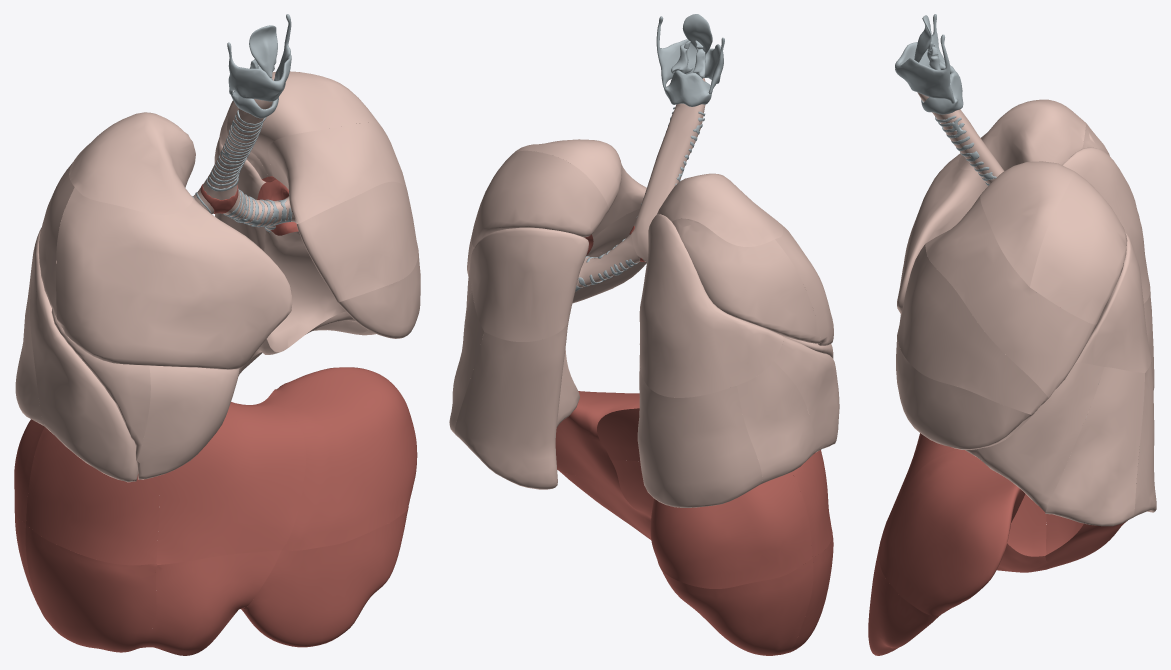
File: adult_female.respiratory.LOD0.glb
The picture shows the model from 3 angles, left to right: view 1: azimuth 30°, elevation 25°; view 2: azimuth 150°, elevation 25°; view 3: azimuth 270°, elevation 25°; orthographic projection. The views are drawn at different scales.
Parts seen in each view (by area): view 1: ADULT.FEMALE.RESPIRATORY.ANTERIOR_BRONCHOPULMONARY_SEGM.R, ADULT.FEMALE.RESPIRATORY.SUPEROMEDIAL_SEGMENT.L, ADULT.FEMALE.RESPIRATORY.SUPEROMEDIAL_SEGMENT1.L, ADULT.FEMALE.RESPIRATORY.ANTEROSUPERIOR_SEGMENT.R, ADULT.FEMALE.RESPIRATORY.ANTEROLATERAL_SEGMENT.L, ADULT.FEMALE.RESPIRATORY.ANTEROINFERIOR_SEGMENT.R, ADULT.FEMALE.RESPIRATORY.ANTERIOR_BASAL_BRONCHOPULMONARY_SEG, ADULT.FEMALE.RESPIRATORY.LINGULA_SUPERIOR_BRONCHOPULMONARY_S, ADULT.FEMALE.RESPIRATORY.APICAL_BRONCHOPULMONARY_SEGMENT.R, ADULT.FEMALE.RESPIRATORY.ANTERIOR_BRONCHOPULMONARY_SEGMENT.L, ADULT.FEMALE.RESPIRATORY.INFEROMEDIAL_SEGMENT.L, ADULT.FEMALE.RESPIRATORY.MEDIAL_BRONCHOPULMONARY_SEGMENT.R (+16 smaller); view 2: ADULT.FEMALE.RESPIRATORY.POSTERIOR_BASAL_BRONCHOPULMONARY_SE (×2), ADULT.FEMALE.RESPIRATORY.POSTERIOR_BRONCHOPULMONARY_SEGMENT. (×2), ADULT.FEMALE.RESPIRATORY.SUPERIOR_BRONCHOPULMONARY_SEGMENT.R, ADULT.FEMALE.RESPIRATORY.POSTEROSUPERIOR_SEGMENT.R, ADULT.FEMALE.RESPIRATORY.SUPERIOR_BRONCHOPULMONARY_SEGMENT.L, ADULT.FEMALE.RESPIRATORY.LATERAL_BASAL_BRONCHOPULMONARY_SEGM (×2), ADULT.FEMALE.RESPIRATORY.POSTEROINFERIOR_SEGMENT.R, ADULT.FEMALE.RESPIRATORY.SUPEROMEDIAL_SEGMENT.L, ADULT.FEMALE.RESPIRATORY.APICAL_BRONCHOPULMONARY_SEGMENT.R, ADULT.FEMALE.RESPIRATORY.ANTERIOR_BASAL_BRONCHOPULMONARY_SEG, ADULT.FEMALE.RESPIRATORY.TRACHEA, ADULT.FEMALE.RESPIRATORY.ANTEROLATERAL_SEGMENT.L (+11 smaller); view 3: ADULT.FEMALE.RESPIRATORY.SUPEROMEDIAL_SEGMENT.L, ADULT.FEMALE.RESPIRATORY.ANTERIOR_BRONCHOPULMONARY_SEGMENT.L, ADULT.FEMALE.RESPIRATORY.LINGULA_SUPERIOR_BRONCHOPULMONARY_S, ADULT.FEMALE.RESPIRATORY.LATERAL_BASAL_BRONCHOPULMONARY_SEGM, ADULT.FEMALE.RESPIRATORY.POSTERIOR_BRONCHOPULMONARY_SEGMENT., ADULT.FEMALE.RESPIRATORY.ANTERIOR_BASAL_BRONCHOPULMONARY_SEG, ADULT.FEMALE.RESPIRATORY.LINGULA_INFERIOR_BRONCHOPULMONARY_S, ADULT.FEMALE.RESPIRATORY.APICAL_BRONCHOPULMONARY_SEGMENT.L, ADULT.FEMALE.RESPIRATORY.APICAL_BRONCHOPULMONARY_SEGMENT.R, ADULT.FEMALE.RESPIRATORY.SUPERIOR_BRONCHOPULMONARY_SEGMENT.L, ADULT.FEMALE.RESPIRATORY.ANTERIOR_BRONCHOPULMONARY_SEGM.R, ADULT.FEMALE.RESPIRATORY.SUPERIOR_BRONCHOPULMONARY_SEGMENT.R (+10 smaller).
Boxes of the visible parts, <box> form: ADULT.FEMALE.RESPIRATORY.ANTERIOR_BRONCHOPULMONARY_SEGM.R: <box>56,187,292,369</box>; ADULT.FEMALE.RESPIRATORY.SUPEROMEDIAL_SEGMENT.L: <box>268,367,417,550</box>; ADULT.FEMALE.RESPIRATORY.SUPEROMEDIAL_SEGMENT1.L: <box>156,398,306,564</box>; ADULT.FEMALE.RESPIRATORY.ANTEROSUPERIOR_SEGMENT.R: <box>26,427,160,565</box>; ADULT.FEMALE.RESPIRATORY.ANTEROLATERAL_SEGMENT.L: <box>241,509,408,647</box>; ADULT.FEMALE.RESPIRATORY.ANTEROINFERIOR_SEGMENT.R: <box>25,524,157,652</box>; ADULT.FEMALE.RESPIRATORY.ANTERIOR_BASAL_BRONCHOPULMONARY_SEG: <box>30,273,137,482</box>; ADULT.FEMALE.RESPIRATORY.LINGULA_SUPERIOR_BRONCHOPULMONARY_S: <box>296,181,418,302</box>; ADULT.FEMALE.RESPIRATORY.APICAL_BRONCHOPULMONARY_SEGMENT.R: <box>69,112,195,215</box>; ADULT.FEMALE.RESPIRATORY.ANTERIOR_BRONCHOPULMONARY_SEGMENT.L: <box>268,122,406,223</box>; ADULT.FEMALE.RESPIRATORY.INFEROMEDIAL_SEGMENT.L: <box>142,550,281,655</box>; ADULT.FEMALE.RESPIRATORY.MEDIAL_BRONCHOPULMONARY_SEGMENT.R: <box>135,365,239,479</box>; ADULT.FEMALE.RESPIRATORY.POSTERIOR_BASAL_BRONCHOPULMONARY_SE (×2): <box>455,320,762,507</box>; ADULT.FEMALE.RESPIRATORY.POSTERIOR_BRONCHOPULMONARY_SEGMENT. (×2): <box>471,150,820,343</box>; ADULT.FEMALE.RESPIRATORY.SUPERIOR_BRONCHOPULMONARY_SEGMENT.R: <box>639,214,783,397</box>; ADULT.FEMALE.RESPIRATORY.POSTEROSUPERIOR_SEGMENT.R: <box>650,472,812,588</box>; ADULT.FEMALE.RESPIRATORY.SUPERIOR_BRONCHOPULMONARY_SEGMENT.L: <box>469,227,588,341</box>; ADULT.FEMALE.RESPIRATORY.LATERAL_BASAL_BRONCHOPULMONARY_SEGM (×2): <box>449,290,816,484</box>; ADULT.FEMALE.RESPIRATORY.POSTEROINFERIOR_SEGMENT.R: <box>660,558,813,655</box>; ADULT.FEMALE.RESPIRATORY.SUPEROMEDIAL_SEGMENT.L: <box>555,391,640,507</box>; ADULT.FEMALE.RESPIRATORY.APICAL_BRONCHOPULMONARY_SEGMENT.R: <box>656,173,782,246</box>; ADULT.FEMALE.RESPIRATORY.ANTERIOR_BASAL_BRONCHOPULMONARY_SEG: <box>774,336,839,452</box>; ADULT.FEMALE.RESPIRATORY.TRACHEA: <box>631,78,705,261</box>; ADULT.FEMALE.RESPIRATORY.ANTEROLATERAL_SEGMENT.L: <box>560,460,653,539</box>; ADULT.FEMALE.RESPIRATORY.SUPEROMEDIAL_SEGMENT.L: <box>879,449,1025,616</box>; ADULT.FEMALE.RESPIRATORY.ANTERIOR_BRONCHOPULMONARY_SEGMENT.L: <box>925,195,1097,397</box>; ADULT.FEMALE.RESPIRATORY.LINGULA_SUPERIOR_BRONCHOPULMONARY_S: <box>897,244,1048,414</box>; ADULT.FEMALE.RESPIRATORY.LATERAL_BASAL_BRONCHOPULMONARY_SEGM: <box>1045,367,1144,526</box>; ADULT.FEMALE.RESPIRATORY.POSTERIOR_BRONCHOPULMONARY_SEGMENT.: <box>1030,171,1127,324</box>; ADULT.FEMALE.RESPIRATORY.ANTERIOR_BASAL_BRONCHOPULMONARY_SEG: <box>965,362,1103,512</box>; ADULT.FEMALE.RESPIRATORY.LINGULA_INFERIOR_BRONCHOPULMONARY_S: <box>896,336,1032,449</box>; ADULT.FEMALE.RESPIRATORY.APICAL_BRONCHOPULMONARY_SEGMENT.L: <box>980,161,1074,286</box>; ADULT.FEMALE.RESPIRATORY.APICAL_BRONCHOPULMONARY_SEGMENT.R: <box>958,99,1086,170</box>; ADULT.FEMALE.RESPIRATORY.SUPERIOR_BRONCHOPULMONARY_SEGMENT.L: <box>1075,232,1151,372</box>; ADULT.FEMALE.RESPIRATORY.ANTERIOR_BRONCHOPULMONARY_SEGM.R: <box>897,153,987,315</box>; ADULT.FEMALE.RESPIRATORY.SUPERIOR_BRONCHOPULMONARY_SEGMENT.R: <box>1062,147,1150,303</box>.
Bounding box in the file's own units: 0.2553 × 0.4012 × 0.1688.
